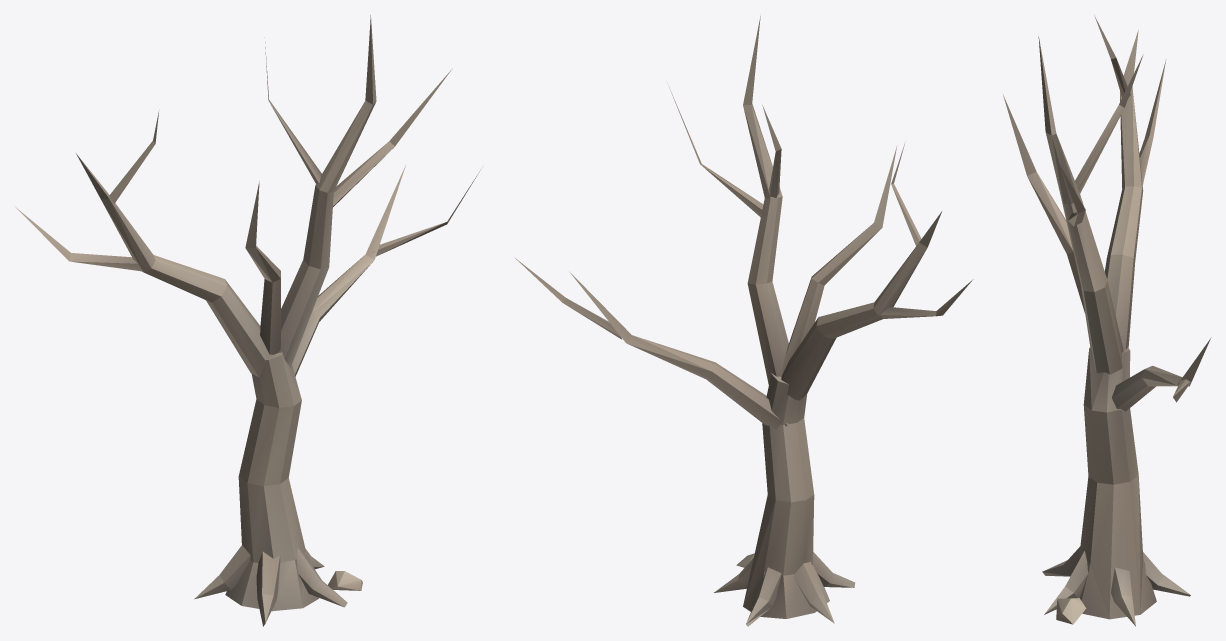
Rendered from deadtree.lod1.glb.
The picture shows the model from 3 angles, left to right: view 1: azimuth 30°, elevation 25°; view 2: azimuth 150°, elevation 25°; view 3: azimuth 270°, elevation 25°; orthographic projection. The views are drawn at different scales.
Bounding box in the file's own units: 7.24 × 8.49 × 2.7.
